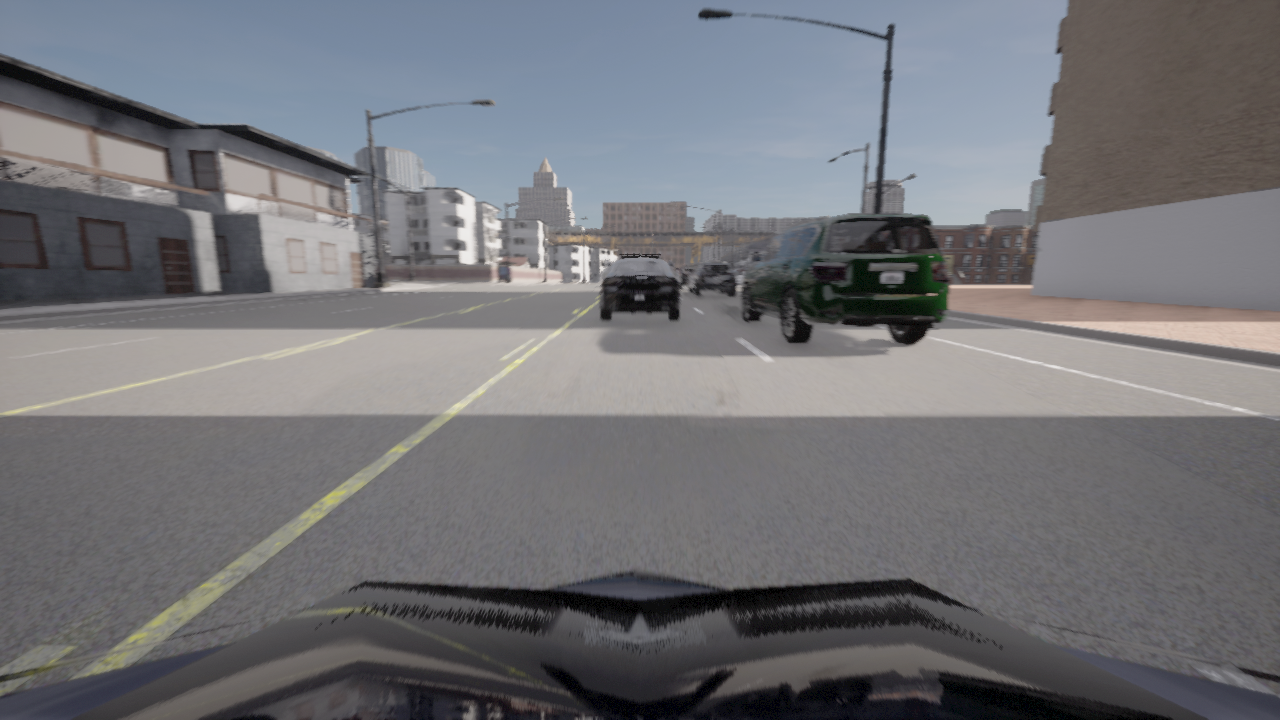cyclist: (0, 569, 1279, 719), (741, 214, 949, 344), (600, 254, 679, 320), (688, 262, 736, 296), (676, 265, 695, 289)
